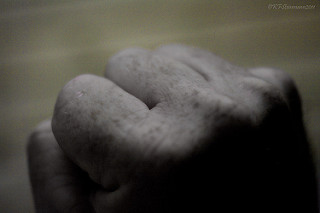fist: (38, 45, 302, 205)
